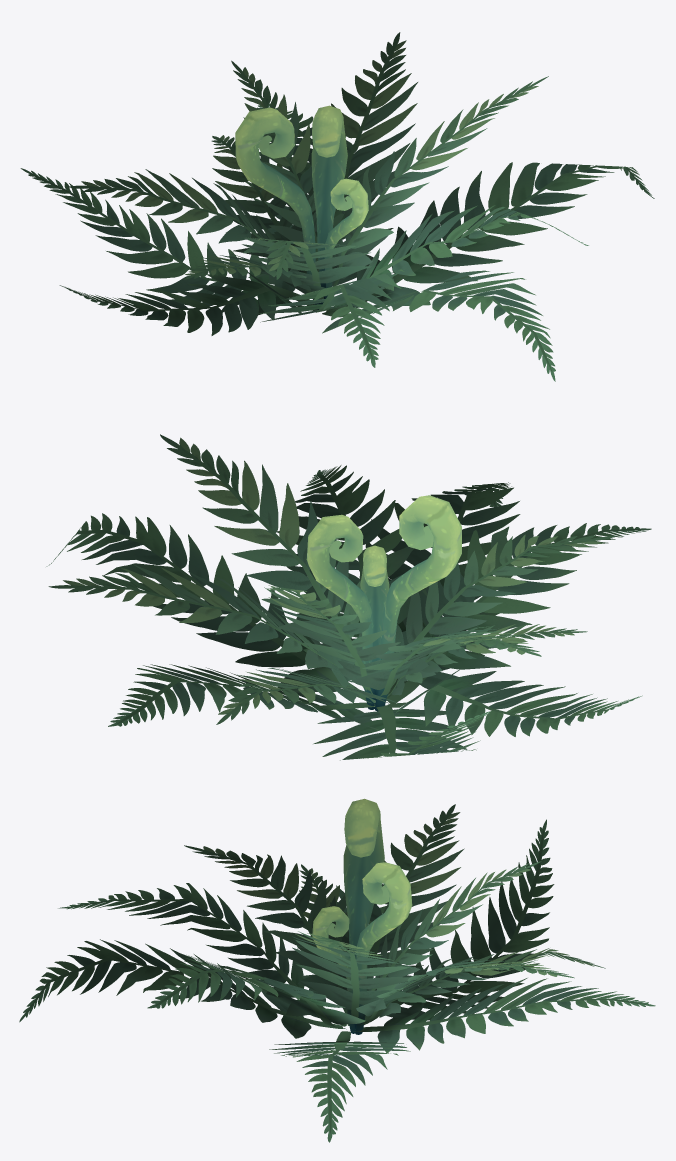
File: fernBush_4.fbx
3 renders of one model, top to bottom at view 1: azimuth 30°, elevation 25°; view 2: azimuth 150°, elevation 25°; view 3: azimuth 270°, elevation 25°, orthographic. The views are drawn at different scales.
Parts seen in each view (by area): view 1: fernBush40; view 2: fernBush40; view 3: fernBush40.
Boxes of the visible parts, <box> form: fernBush40: <box>20,32,654,381</box>; fernBush40: <box>46,434,651,760</box>; fernBush40: <box>19,798,655,1142</box>.
Size of the model in its own units: 259 by 89.23 by 258.
Materials: 1 (1 with a texture image).
